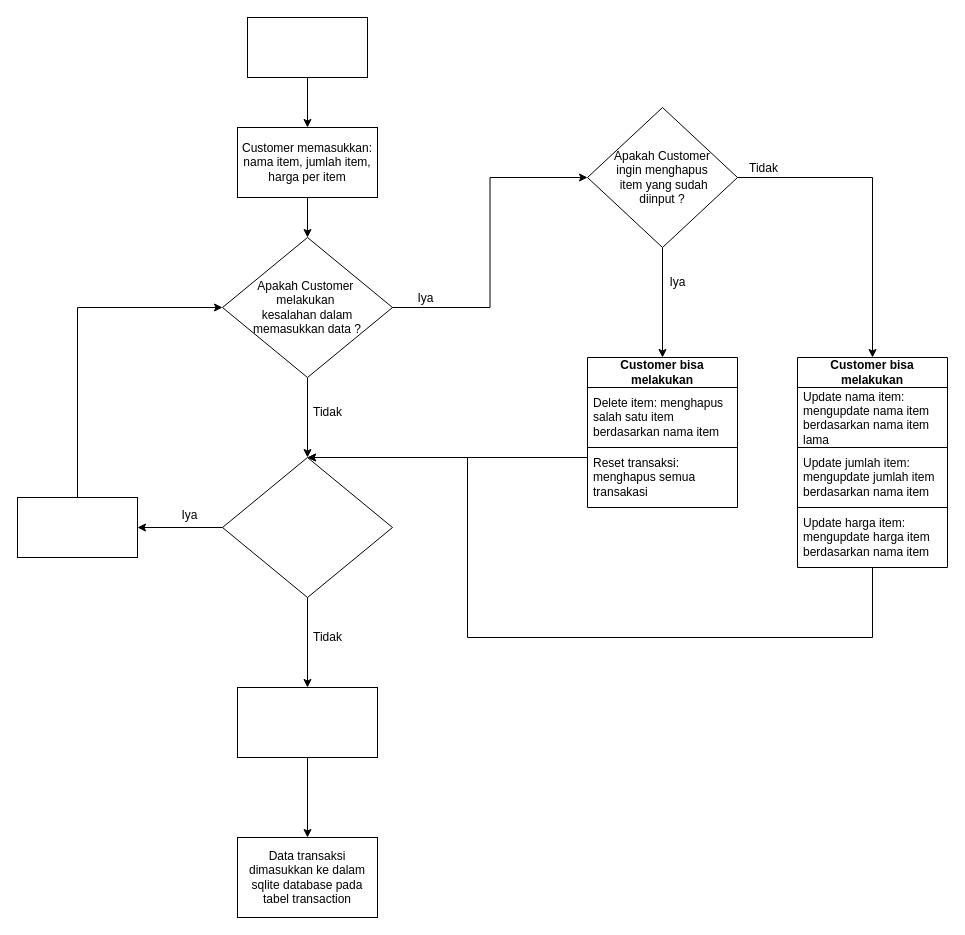
This 965x935 diagram has some shape labels left out. The centre of each missing label's shape, as x and y in pixels:
"Apakah Customer ingin meakukan pengecekan ulang terhadap input sebelumnya ?" belongs at (x=307, y=527).
"Customer melakukan pengecekan transaksi" belongs at (x=77, y=527).
"Customer membuat ID Transaksi" belongs at (x=307, y=47).
"Customer menghitung total belanja yang sudah dibeli" belongs at (x=307, y=722).
